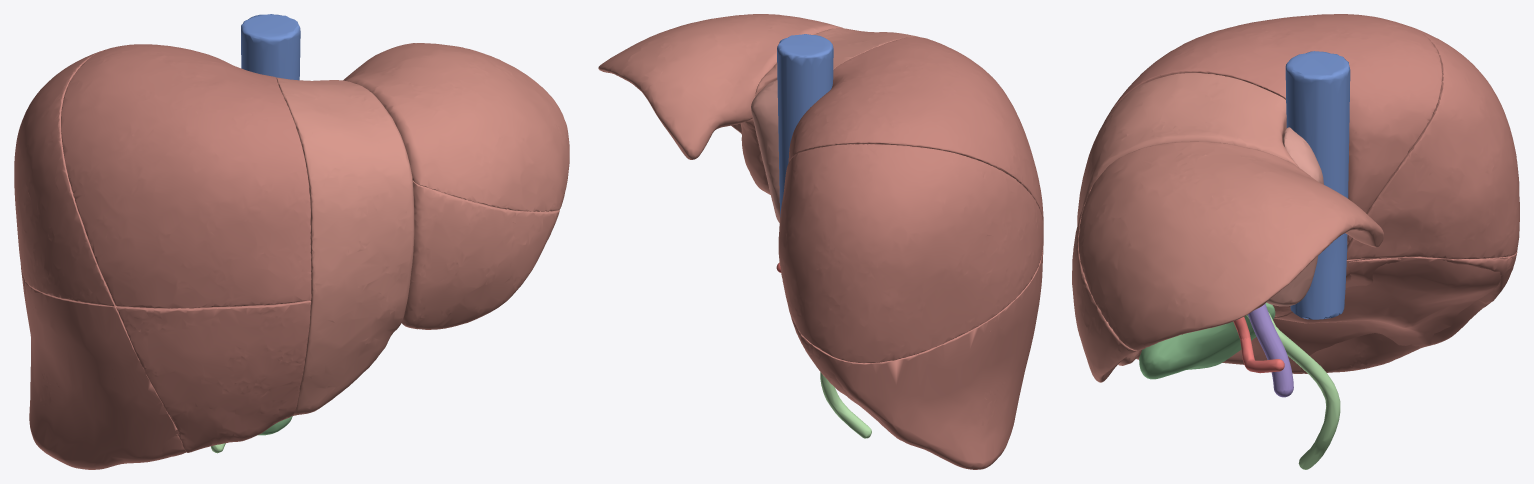
Rendered from liver.glb.
3 renders of one model, left to right at view 1: azimuth 30°, elevation 25°; view 2: azimuth 150°, elevation 25°; view 3: azimuth 270°, elevation 25°, orthographic. The views are drawn at different scales.
Parts seen in each view (by area): view 1: right_lobe, left_lobe, quadrate_lobe, vena_cava; view 2: right_lobe, left_lobe, vena_cava, caudate_lobe, quadrate_lobe, bile_ducts; view 3: right_lobe, left_lobe, quadrate_lobe, vena_cava, gallbladder, bile_ducts, caudate_lobe, portal_vein, hepatic_artery.
Boxes of the visible parts, x1,y1,x2,y2 form: right_lobe: (14, 44, 311, 469); left_lobe: (343, 43, 569, 329); quadrate_lobe: (276, 77, 414, 415); vena_cava: (241, 14, 300, 80); right_lobe: (778, 37, 1043, 469); left_lobe: (598, 14, 842, 194); vena_cava: (777, 34, 833, 216); caudate_lobe: (751, 80, 779, 222); quadrate_lobe: (755, 28, 919, 95); bile_ducts: (820, 372, 871, 438); right_lobe: (1105, 14, 1519, 373); left_lobe: (1072, 141, 1383, 382); quadrate_lobe: (1077, 73, 1298, 365); vena_cava: (1285, 51, 1350, 319); gallbladder: (1139, 302, 1275, 379); bile_ducts: (1246, 312, 1340, 469); caudate_lobe: (1266, 127, 1347, 306); portal_vein: (1248, 303, 1293, 397); hepatic_artery: (1233, 317, 1284, 373).
Bounding box in the file's own units: 0.2094 × 0.1709 × 0.159.
